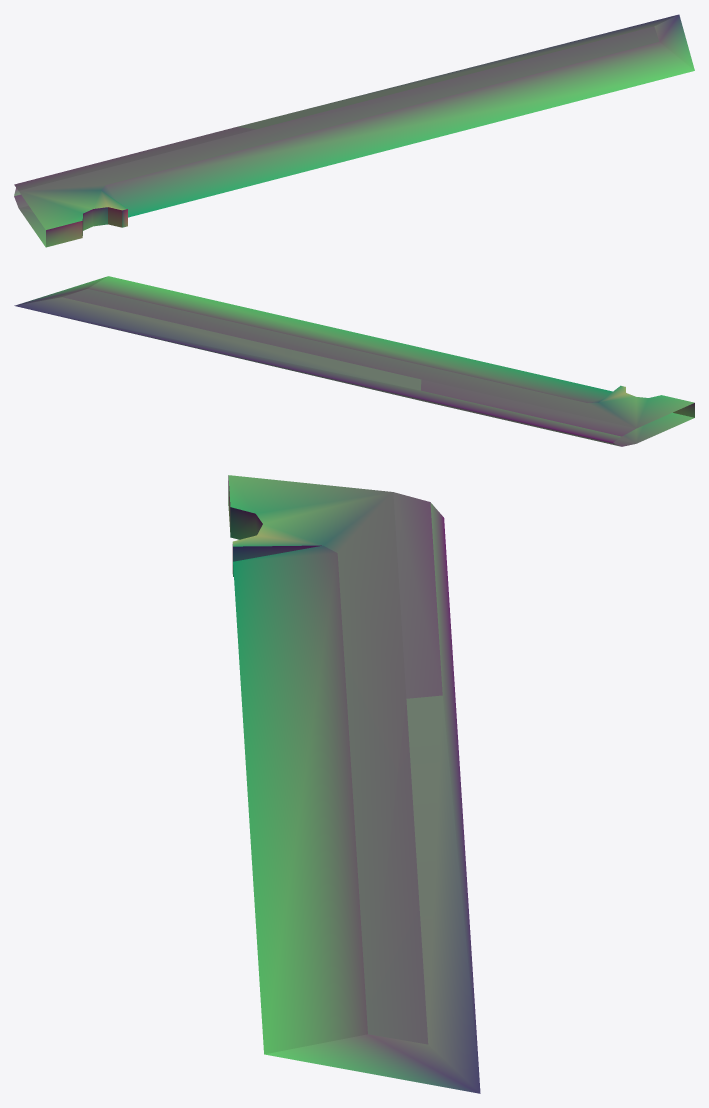
Rendered from Eff_Tsubaki_weapon_L1.fbx.
The picture shows the model from 3 angles, top to bottom: view 1: azimuth 30°, elevation 25°; view 2: azimuth 150°, elevation 25°; view 3: azimuth 270°, elevation 25°; orthographic projection. The views are drawn at different scales.
Parts seen in each view (by area): view 1: Eff_Tsubaki_weapon_L1; view 2: Eff_Tsubaki_weapon_L1; view 3: Eff_Tsubaki_weapon_L1.
Part boxes in pixels (left/top/right/bottom): Eff_Tsubaki_weapon_L1: left=14, top=14, right=694, bottom=247; Eff_Tsubaki_weapon_L1: left=14, top=276, right=694, bottom=446; Eff_Tsubaki_weapon_L1: left=228, top=475, right=480, bottom=1093.
Bounding box in the file's own units: 0.2867 × 0.00683 × 0.0506.
